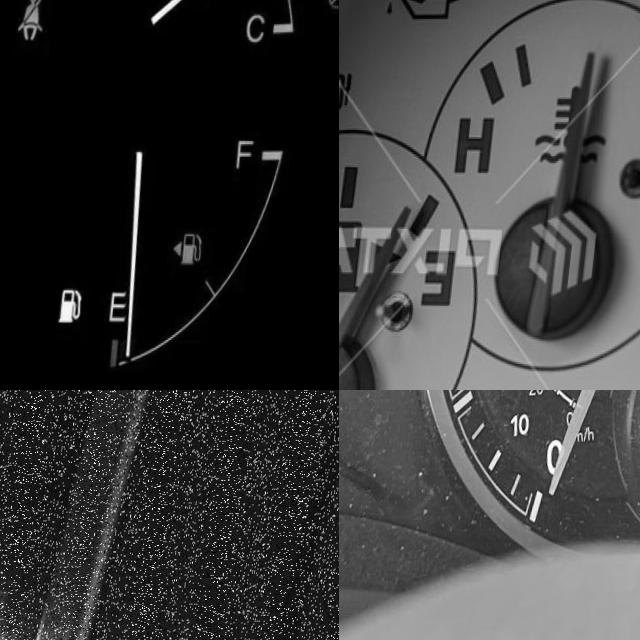Seat Belt: (22, 0, 51, 38)
